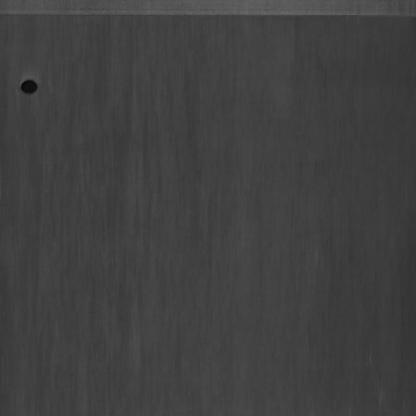punching_hole: (19, 73, 45, 99)
welding_line: (0, 5, 415, 34)
